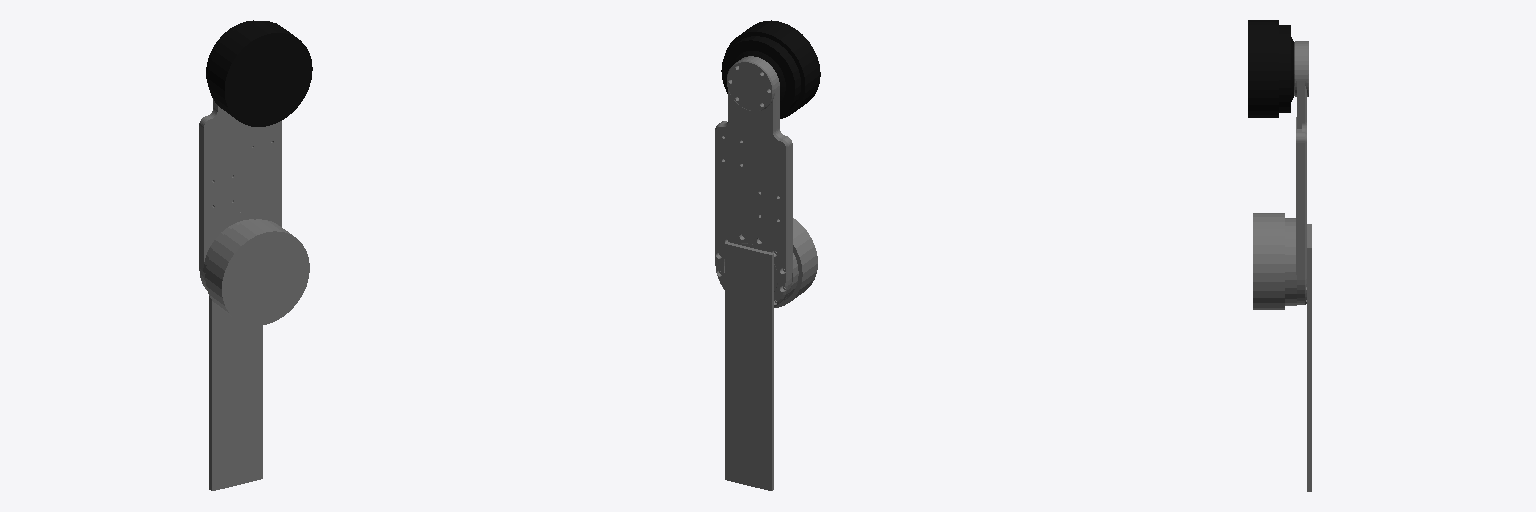
The robot description file, URDF, robot "a1_motor":
<?xml version="1.0" ?>

<robot name="a1_motor" xmlns:xacro="http://ros.org/wiki/xacro">

	<link name="world"/>
	<joint name="world_joint" type="fixed">
		<parent link="world"/>
		<child link="base_link"/>
		<origin rpy="0.0 0.0 0.0" xyz="0 0 0.5"/>
	</joint>
	<link name="base_link">
		<visual>
		<origin rpy="0 0 0" xyz="0 0 0"/>
		<geometry>
		<mesh filename="meshes/a1_motor.stl"/>
		</geometry>
  <material name="black">
    <color rgba="0.1 0.1 0.1 1.0"/>
  </material>
		</visual>
		<collision>
		<origin rpy="0 0 0" xyz="0 0.021 0"/>
		<geometry>
		<cylinder length="0.042" radius="0.046"/>
		</geometry>
		</collision>
		<inertial>
		<origin rpy="0 0 0" xyz="0 0 0"/>
		<mass value="0.705"/>
		  <inertia  ixx="0.0006111993117592239" ixy="0" ixz="0" iyy="0.000993951145190498" iyz="0" izz="0.0006111993117592239" />
		</inertial>
	</link>	
	<joint name="joint1" type="revolute">
		<parent link="base_link"/>
		<child link="link1"/>
		<origin rpy="0.0 0.0 0.0" xyz="0 0.03 0"/>
		<axis xyz="0 1 0"/>
                <limit effort="6" lower="-3.05432619099" upper="3.05432619099" velocity="1"/>		
	</joint>
	<link name="link1">
		<visual>
		<origin rpy="0 0 0" xyz="0 0 0"/>
		<geometry>
		<mesh filename="meshes/link1.stl"/>
		</geometry>
  <material name="metal_gray">
    <color rgba="0.5 0.5 0.5 1.0"/>
  </material>
		</visual>
		<collision>
		<origin rpy="0 0 0" xyz="0 0 0"/>
		<geometry>
		<mesh filename="meshes/link1.stl"/>
		</geometry>
		</collision>
		<inertial>
		<origin rpy="0 0 0" xyz="0 0 -0.2"/>
		<mass value="0.705"/>
		  <inertia  ixx="0.0006111993117592239" ixy="0" ixz="0" iyy="0.000993951145190498" iyz="0" izz="0.0006111993117592239" />
		</inertial>
	</link>	
	<joint name="joint2" type="revolute">
		<parent link="link1"/>
		<child link="link2"/>
		<origin rpy="0.0 0.0 0.0" xyz="0 0.0075 -0.2"/>
		<axis xyz="0 1 0"/>
                <limit effort="6" lower="-3.05432619099" upper="3.05432619099" velocity="1"/>			
	</joint>
	<link name="link2">
		<visual>
		<origin rpy="0 0 0" xyz="0 0 0"/>
		<geometry>
		<mesh filename="meshes/link2.stl"/>
		</geometry>
  <material name="metal_gray">
    <color rgba="0.5 0.5 0.5 1.0"/>
  </material>
		</visual>
		<collision>
		<origin rpy="0 0 0" xyz="0 0 0"/>
		<geometry>
		<mesh filename="meshes/link2.stl"/>
		</geometry>
		</collision>
		<inertial>
		<origin rpy="0 0 0" xyz="0 0 -0.2"/>
		<mass value="0.05"/>
		  <inertia  ixx="0.0006111993117592239" ixy="0" ixz="0" iyy="0.000993951145190498" iyz="0" izz="0.0006111993117592239" />
		</inertial>
	</link>

</robot>

--- What the picture shows (computed from the rendered views, not written in the file) ---
3 views of the same robot in one strip: view 1: azimuth 30°, elevation 25°; view 2: azimuth 150°, elevation 25°; view 3: azimuth 270°, elevation 25° (orthographic).
Model a1_motor with 4 links and 3 joints (2 revolute, 1 fixed), rooted at world, posed every joint at zero.
Visible links, largest first — view 1: link1, link2, base_link; view 2: link1, link2, base_link; view 3: link1, base_link, link2.
Link boxes in pixels (x1,y1,x2,y2): link1: [199, 99, 309, 325]; link2: [209, 296, 262, 490]; base_link: [206, 20, 312, 126]; link1: [715, 56, 817, 307]; link2: [725, 242, 773, 490]; base_link: [721, 20, 820, 118]; link1: [1253, 41, 1308, 309]; base_link: [1248, 20, 1293, 117]; link2: [1307, 224, 1311, 491].
Bounding box of the posed robot: 0.092 × 0.0611 × 0.4725 m (x, y, z).
3 mesh visuals loaded from 3 distinct referenced files (3 binary STL).